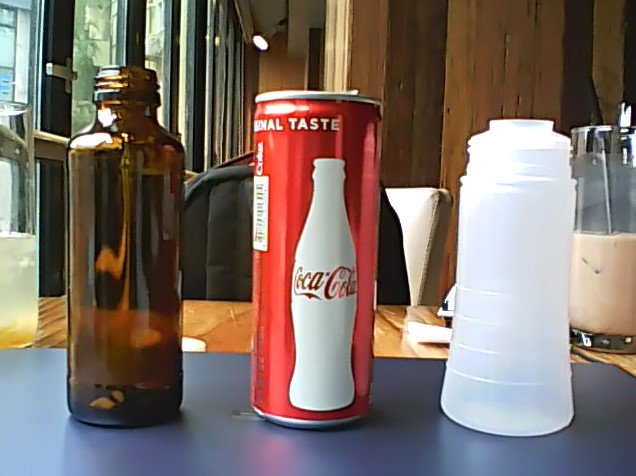Can: (240, 76, 386, 437)
Glass: (56, 59, 191, 436)
Plastic: (435, 111, 581, 443)
